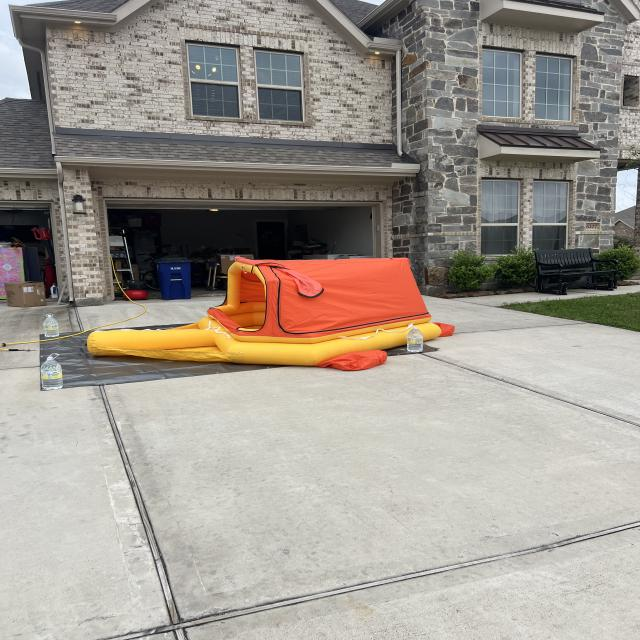Multi-person_life_raft: (87, 256, 455, 372)
